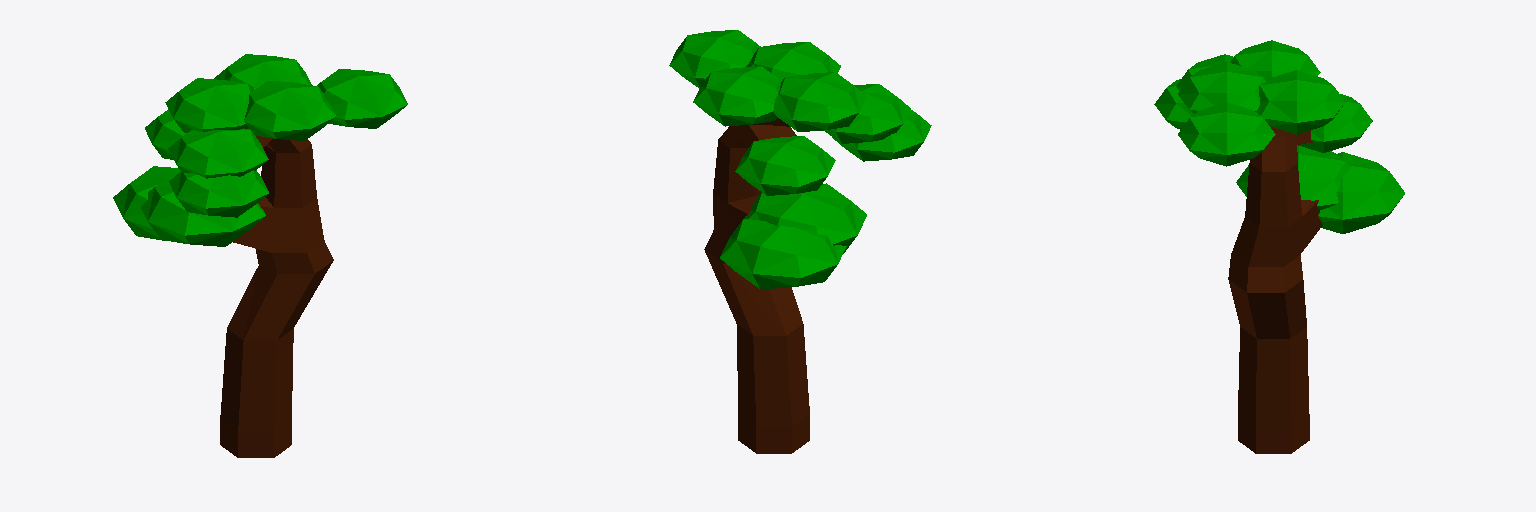
Rendered from Trees02.obj.
3 renders of one model, left to right at view 1: azimuth 30°, elevation 25°; view 2: azimuth 150°, elevation 25°; view 3: azimuth 270°, elevation 25°, orthographic.
Parts seen in each view (by area): view 1: Tree02_Circle.002; view 2: Tree02_Circle.002; view 3: Tree02_Circle.002.
Part boxes in pixels (x1,y1,x2,y2): Tree02_Circle.002: (113, 54, 407, 457); Tree02_Circle.002: (669, 30, 931, 453); Tree02_Circle.002: (1154, 40, 1404, 453).
Size of the model in its own units: 7.59 by 11.46 by 7.02.